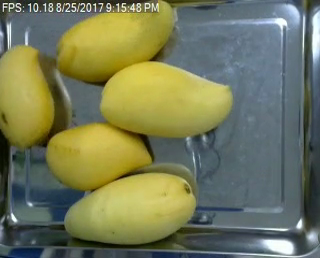Mango: (97, 60, 234, 139), (61, 172, 199, 245), (51, 2, 171, 82), (43, 121, 155, 193), (0, 42, 58, 149)
